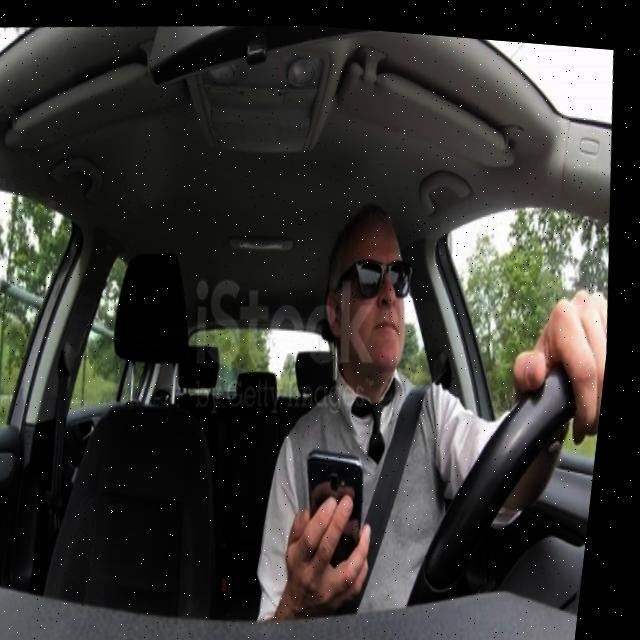PhoneCall: (303, 435, 387, 576)
